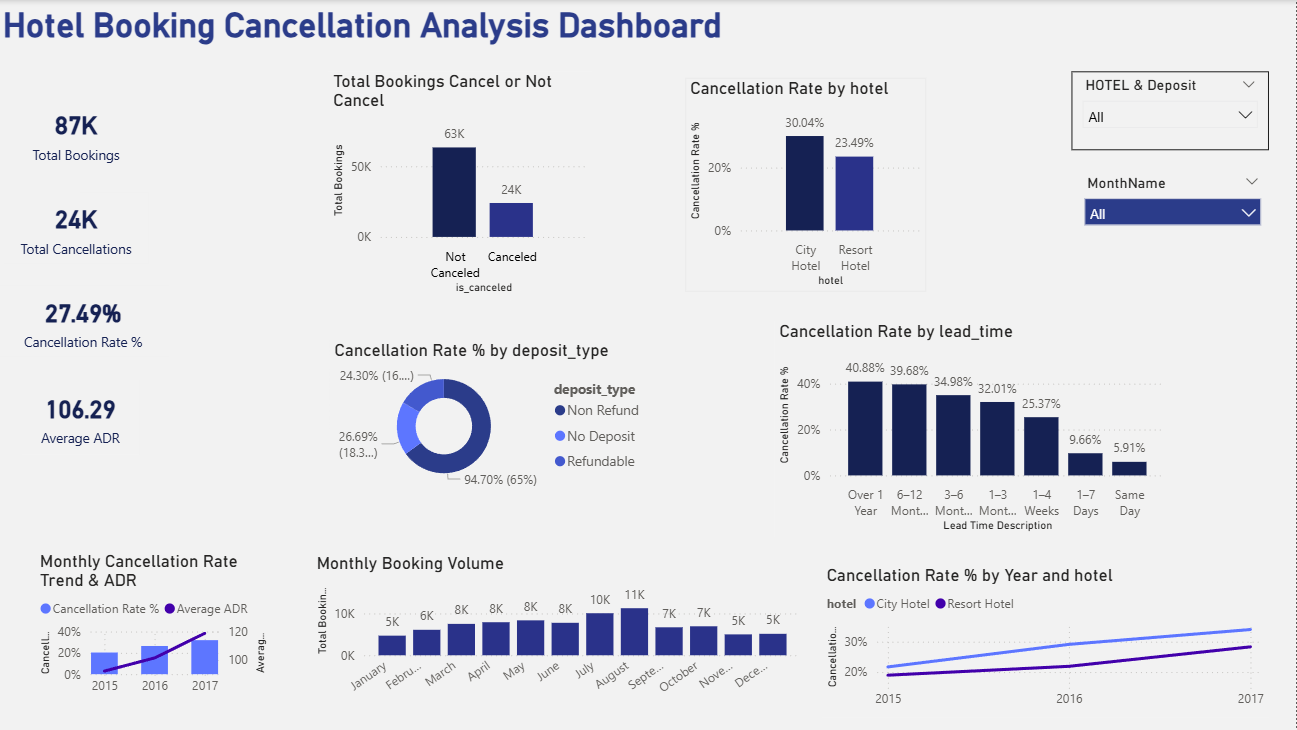

Layout of this report page (visuals, bound fields, positions):
{"tool":"powerbi","page":{"name":"Page 1","canvas":[1280,720],"ordinal":0},"visuals":[{"type":"clusteredColumnChart","title":"Total Bookings Cancel or Not Cancel","fields":{"Category":["hotel_bookings_for_powerbi.is_canceled"],"Y":["hotel_bookings_for_powerbi.Total Bookings"]},"box":[326,70,260,224],"z":0},{"type":"clusteredColumnChart","title":"Cancellation Rate by hotel","fields":{"Category":["hotel_bookings_for_powerbi.hotel"],"Y":["hotel_bookings_for_powerbi.Cancellation Rate %"]},"box":[677.7,76.1,236.7,211.3],"z":1000},{"type":"clusteredColumnChart","title":"Cancellation Rate by lead_time","fields":{"Y":["hotel_bookings_for_powerbi.Cancellation Rate %"],"Category":["hotel_bookings_for_powerbi.Lead Time Description"]},"box":[765,317,390.3,212.7],"z":2000},{"type":"slicer","fields":{"Values":["hotel_bookings_for_powerbi.hotel","hotel_bookings_for_powerbi.deposit_type","hotel_bookings_for_powerbi.market_segment"]},"box":[1058.1,70.4,194.4,77.5],"z":3000},{"type":"card","fields":{"Values":["hotel_bookings_for_powerbi.Total Bookings"]},"box":[23.3,96.7,106.7,70],"z":4000},{"type":"card","fields":{"Values":["hotel_bookings_for_powerbi.Total Cancellations"]},"box":[6.7,190,141.7,70],"z":5000},{"type":"card","fields":{"Values":["hotel_bookings_for_powerbi.Cancellation Rate %"]},"box":[0,281.7,168.3,70],"z":6000},{"type":"card","fields":{"Values":["hotel_bookings_for_powerbi.Average ADR"]},"box":[23.3,375,115,73.3],"z":7000},{"type":"slicer","fields":{"Values":["hotel_bookings_for_powerbi.MonthName"]},"box":[1060.9,167.7,194.4,77.5],"z":8000},{"type":"clusteredColumnChart","title":"Monthly Booking Volume","fields":{"Category":["hotel_bookings_for_powerbi.MonthName"],"Y":["hotel_bookings_for_powerbi.Total Bookings"]},"box":[308.5,545.2,487.5,150.8],"z":9000},{"type":"lineChart","fields":{"Category":["hotel_bookings_for_powerbi.ArrivalDate.Variation.Date Hierarchy.Year","hotel_bookings_for_powerbi.ArrivalDate.Variation.Date Hierarchy.Quarter","hotel_bookings_for_powerbi.ArrivalDate.Variation.Date Hierarchy.Month","hotel_bookings_for_powerbi.ArrivalDate.Variation.Date Hierarchy.Day"],"Series":["hotel_bookings_for_powerbi.hotel"],"Y":["hotel_bookings_for_powerbi.Cancellation Rate %"]},"box":[811.5,556.5,441,150.8],"z":10000},{"type":"donutChart","fields":{"Category":["hotel_bookings_for_powerbi.deposit_type"],"Y":["hotel_bookings_for_powerbi.Cancellation Rate %"]},"box":[326.9,335.3,324,150.8],"z":11000},{"type":"lineClusteredColumnComboChart","title":"Monthly Cancellation Rate Trend & ADR","fields":{"Category":["hotel_bookings_for_powerbi.ArrivalDate.Variation.Date Hierarchy.Year","hotel_bookings_for_powerbi.ArrivalDate.Variation.Date Hierarchy.Quarter","hotel_bookings_for_powerbi.ArrivalDate.Variation.Date Hierarchy.Month","hotel_bookings_for_powerbi.ArrivalDate.Variation.Date Hierarchy.Day"],"Y":["hotel_bookings_for_powerbi.Cancellation Rate %"],"Y2":["hotel_bookings_for_powerbi.Average ADR"]},"box":[36.7,543.3,233.3,151.7],"z":12000},{"type":"textbox","box":[0,0,944,54],"z":13000}]}

Visuals, with their boxes in screenshot pixels (x1, y1, x2, y2), scaled from the page's 1280x720 canvas onto the 1297x730 screenshot:
"Total Bookings Cancel or Not Cancel" clusteredColumnChart: bbox=(330, 71, 594, 298)
"Cancellation Rate by hotel" clusteredColumnChart: bbox=(687, 77, 927, 291)
"Cancellation Rate by lead_time" clusteredColumnChart: bbox=(775, 321, 1171, 537)
slicer - hotel_bookings_for_powerbi.hotel x hotel_bookings_for_powerbi.deposit_type: bbox=(1072, 71, 1269, 150)
card - hotel_bookings_for_powerbi.Total Bookings: bbox=(24, 98, 132, 169)
card - hotel_bookings_for_powerbi.Total Cancellations: bbox=(7, 193, 150, 264)
card - hotel_bookings_for_powerbi.Cancellation Rate %: bbox=(0, 286, 171, 357)
card - hotel_bookings_for_powerbi.Average ADR: bbox=(24, 380, 140, 455)
slicer - hotel_bookings_for_powerbi.MonthName: bbox=(1075, 170, 1272, 249)
"Monthly Booking Volume" clusteredColumnChart: bbox=(313, 553, 807, 706)
lineChart - hotel_bookings_for_powerbi.ArrivalDate.Variation.Date Hierarchy.Year x hotel_bookings_for_powerbi.ArrivalDate.Variation.Date Hierarchy.Quarter: bbox=(822, 564, 1269, 717)
donutChart - hotel_bookings_for_powerbi.deposit_type x hotel_bookings_for_powerbi.Cancellation Rate %: bbox=(331, 340, 660, 493)
"Monthly Cancellation Rate Trend & ADR" lineClusteredColumnComboChart: bbox=(37, 551, 274, 705)
textbox: bbox=(0, 0, 957, 55)
